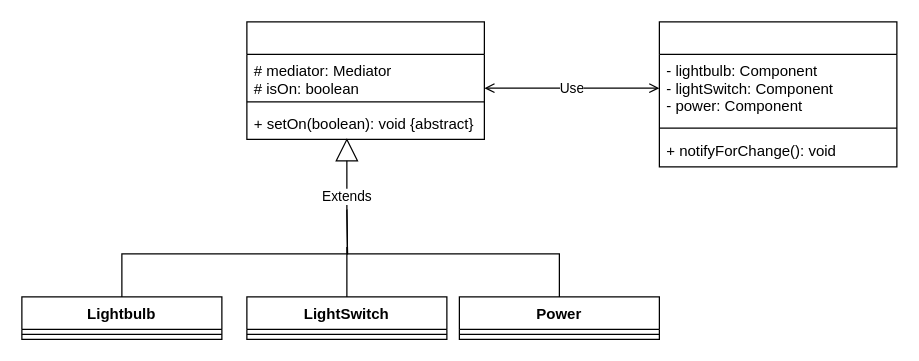
Image size: 919x361. Some labels were removed from this diagram. Here are the shapes that lost their labels. From the top down, the box of each, then its label:
(246, 21, 484, 139): Component {abstract}
(658, 21, 897, 167): Mediator
